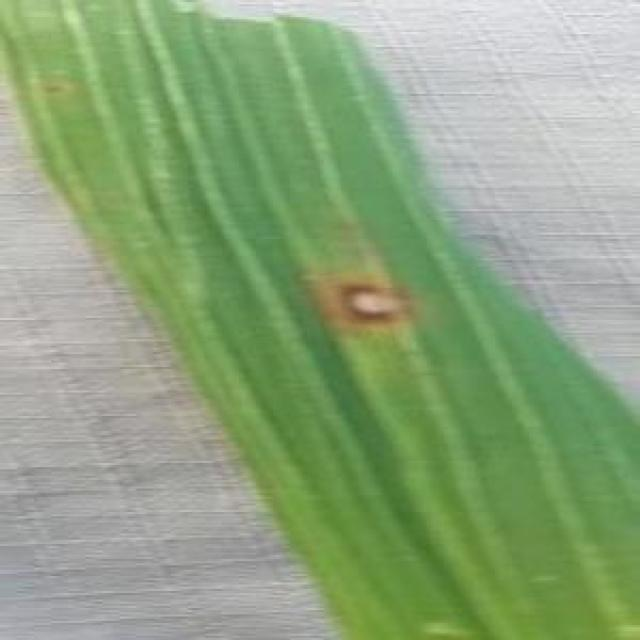Brown_Spot: (318, 266, 414, 351)
